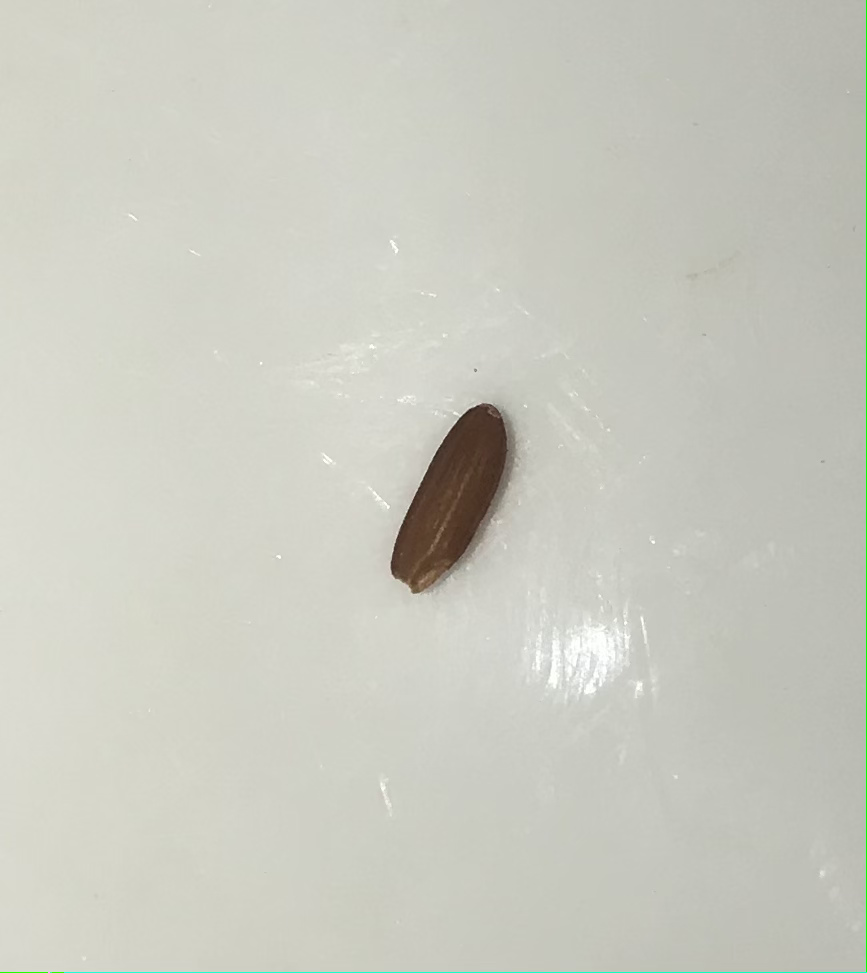Gao Lut Do: (382, 387, 526, 615)
